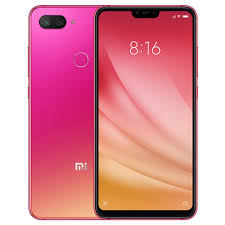mi: (92, 1, 202, 220)
